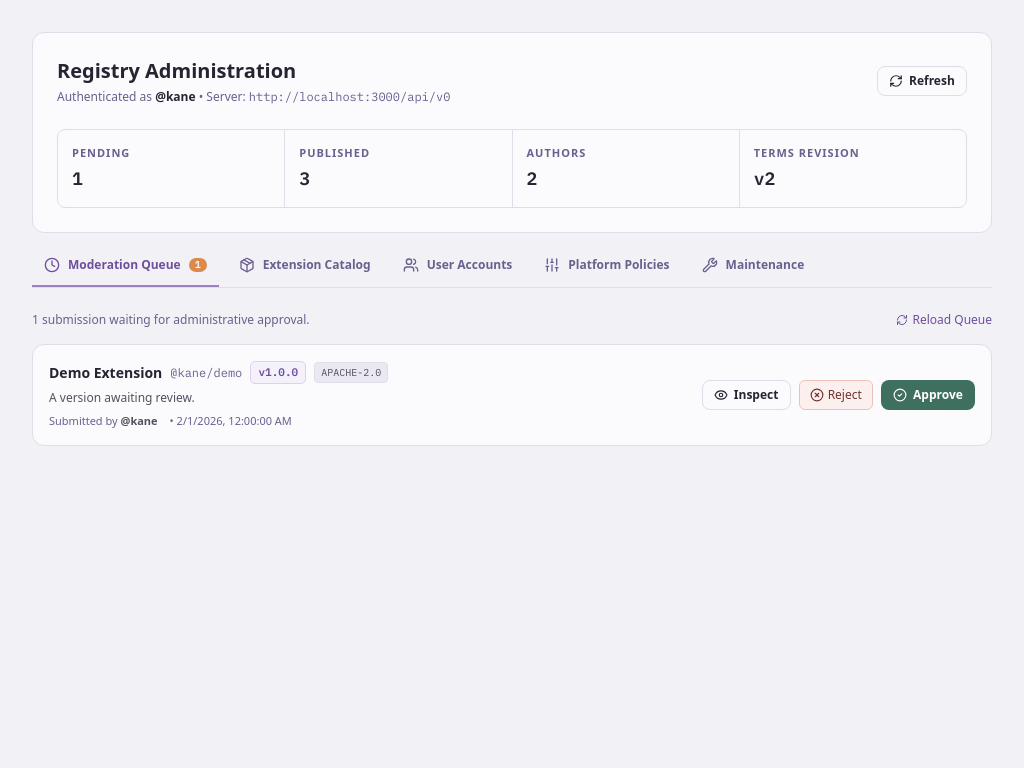
Test case: AdminPage › publishes a policy revision from the markdown editor
Click the button "Platform Policies". click: (607,272)
box: [532,257,682,287]
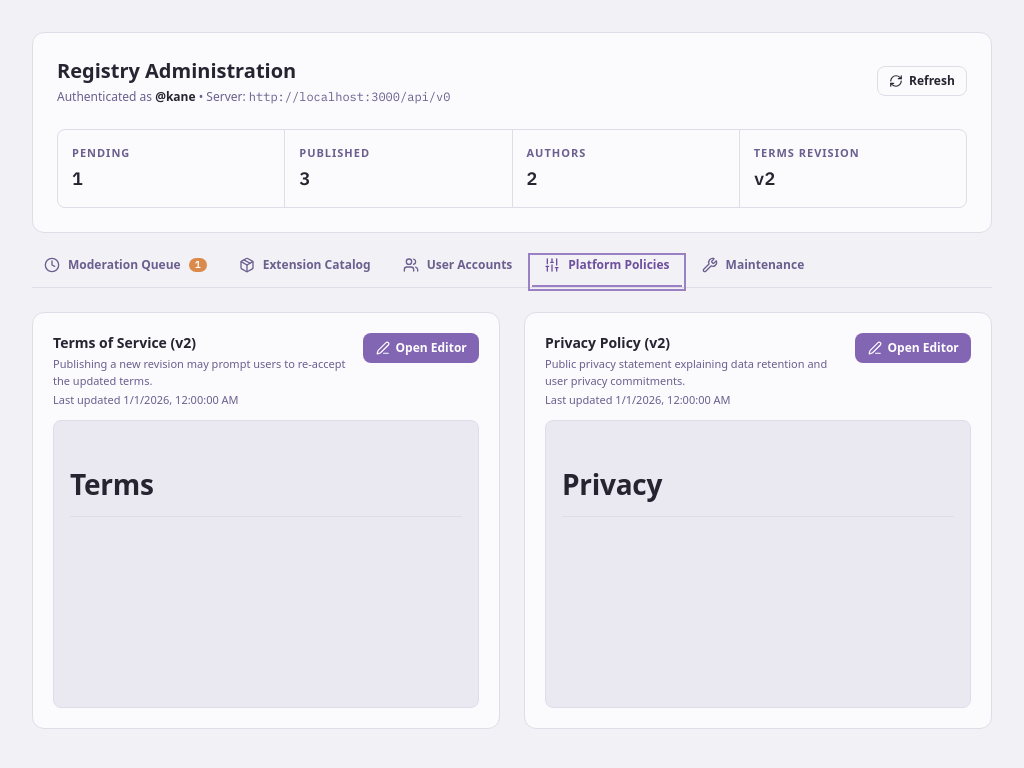
Click the button "Open Editor" in the row of "Terms of Service (v". click: (421,348)
box: [363,333,479,363]
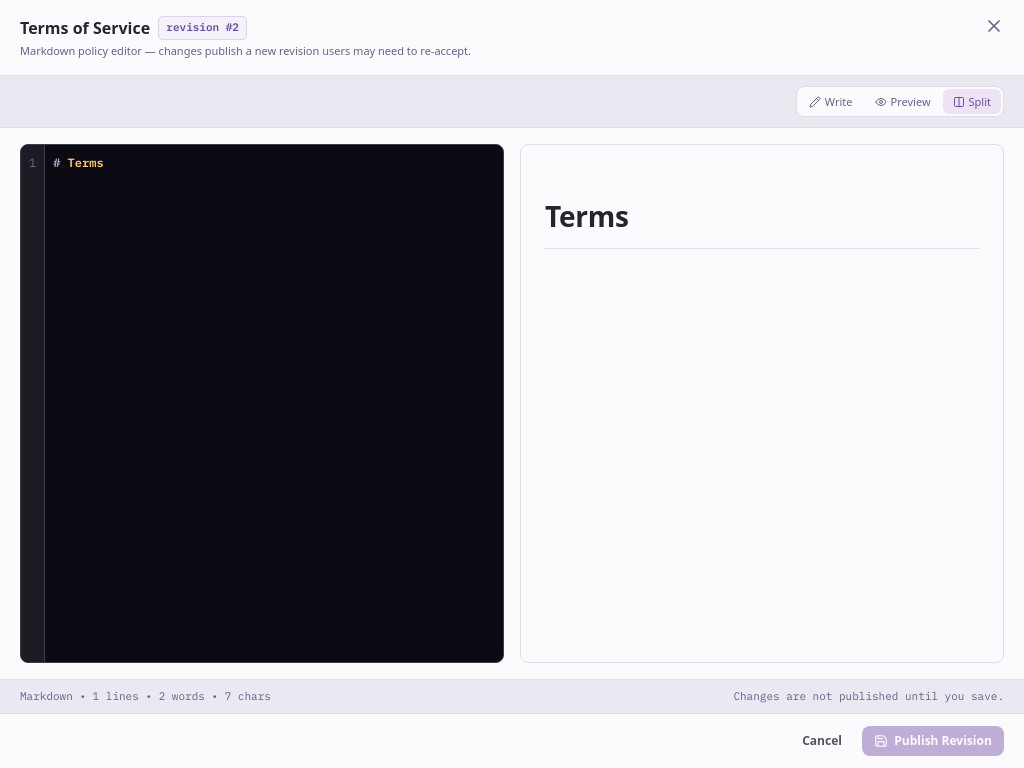
Replace the text in the text box named "Terms of Service markdown editor" with "# Updated Terms". click: (274,403)
box: [45,145,503,662]
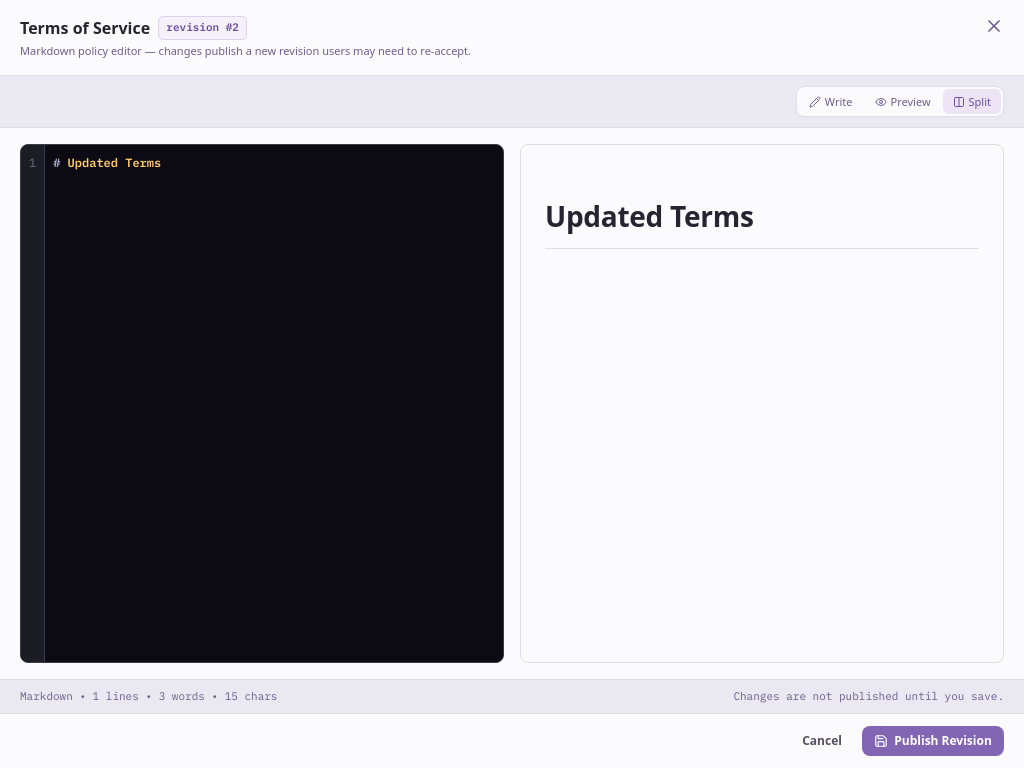
Click the button "Publish Revision". click: (933,741)
box: [862,726,1004,756]
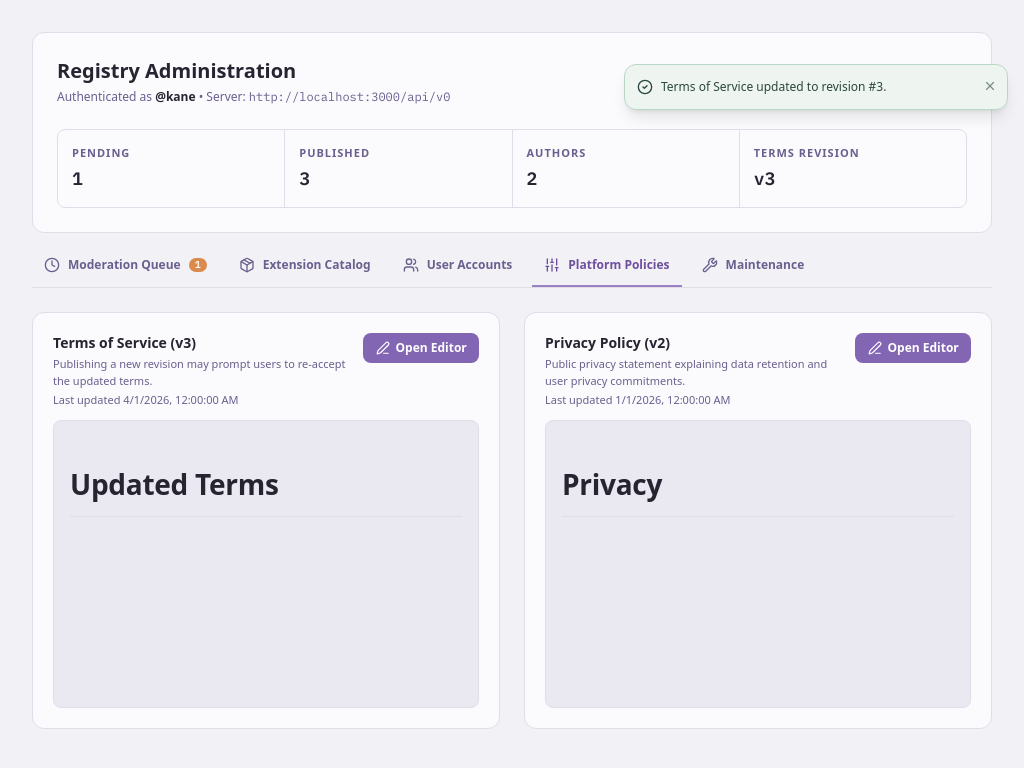
Check: the text "Terms of Service updated to revision #3." is shown, box [661,78,886,95]
